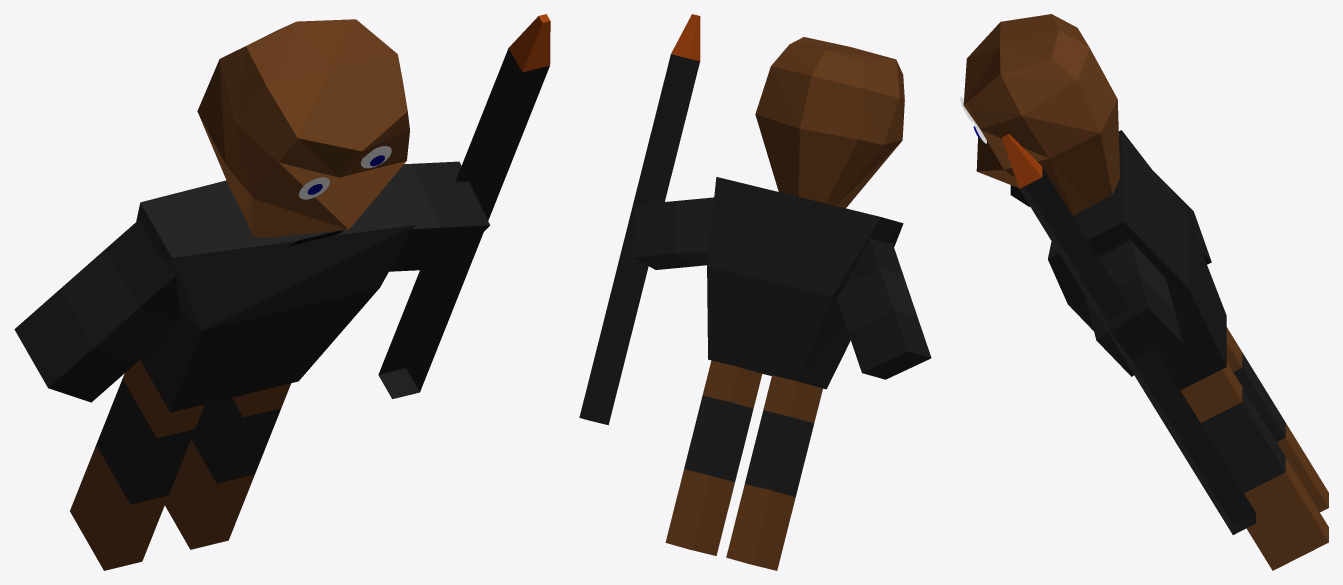
The model's file is spearman1d.obj.
The picture shows the model from 3 angles, left to right: view 1: azimuth 30°, elevation 25°; view 2: azimuth 150°, elevation 25°; view 3: azimuth 270°, elevation 25°; orthographic projection. The views are drawn at different scales.
Visible parts, largest first — view 1: Cube.001, Cube, Cube.003, Cube.004, Cube.007, Cube.005, Cube.002; view 2: Cube.001, Cube, Cube.007, Cube.004, Cube.005, Cube.003, Cube.002; view 3: Cube, Cube.001, Cube.007, Cube.005, Cube.002, Cube.004, Cube.003.
Boxes of the visible parts, left/top/right/bottom form: Cube.001: left=136, top=180, right=414, bottom=412; Cube: left=197, top=19, right=409, bottom=238; Cube.003: left=14, top=220, right=179, bottom=402; Cube.004: left=70, top=360, right=204, bottom=570; Cube.007: left=378, top=14, right=550, bottom=398; Cube.005: left=165, top=383, right=290, bottom=549; Cube.002: left=389, top=161, right=490, bottom=271; Cube.001: left=707, top=177, right=903, bottom=389; Cube: left=755, top=37, right=904, bottom=208; Cube.007: left=579, top=14, right=700, bottom=425; Cube.004: left=726, top=375, right=822, bottom=570; Cube.005: left=665, top=360, right=762, bottom=555; Cube.003: left=837, top=238, right=931, bottom=379; Cube.002: left=633, top=197, right=714, bottom=269; Cube: left=963, top=14, right=1120, bottom=215; Cube.001: left=1048, top=130, right=1226, bottom=390; Cube.007: left=1002, top=134, right=1255, bottom=534; Cube.005: left=1180, top=362, right=1328, bottom=570; Cube.002: left=1084, top=240, right=1183, bottom=376; Cube.004: left=1226, top=327, right=1328, bottom=512; Cube.003: left=1153, top=171, right=1211, bottom=264.
Size of the model in its own units: 3.88 by 5.44 by 3.52.
